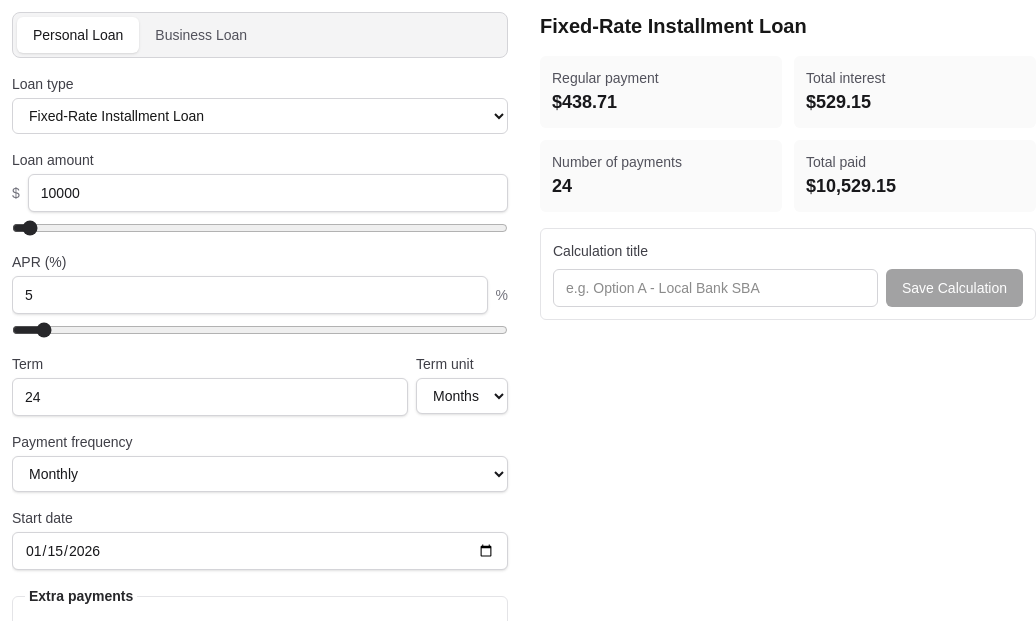
Test case: Calculator form (REQ-UI-003, REQ-NFR-CODE2) › calculates INTEREST_ONLY_BALLOON from its default inputs
Select "Interest-Only Loan with Balloon" in the dropdown labelled "Loan type" at (260, 116), box [12, 98, 508, 134]
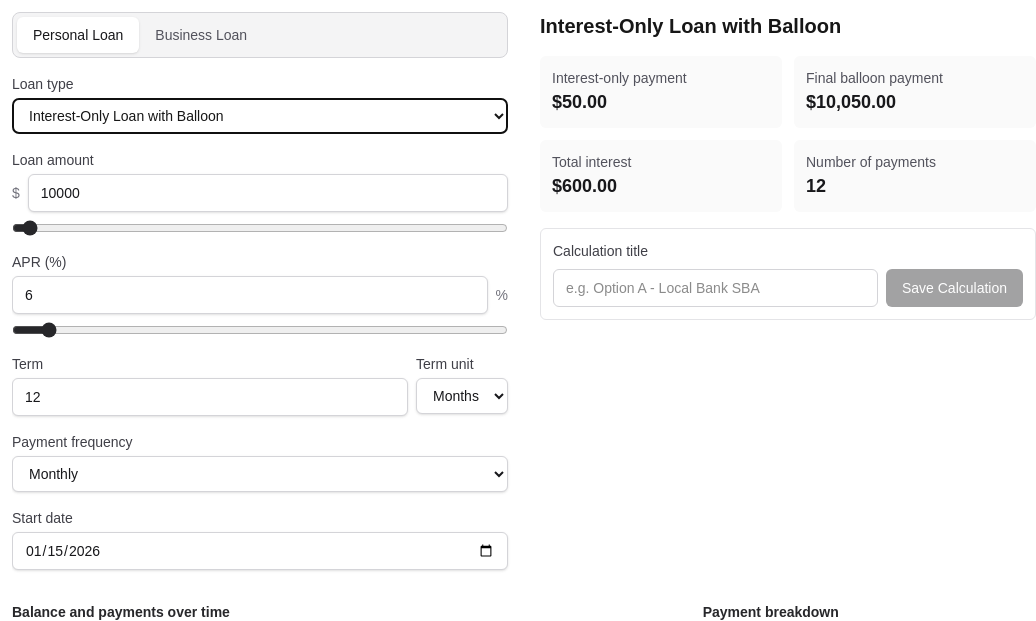
Now the heading "Interest-Only Loan with Balloon" is shown, box [540, 15, 841, 37]
